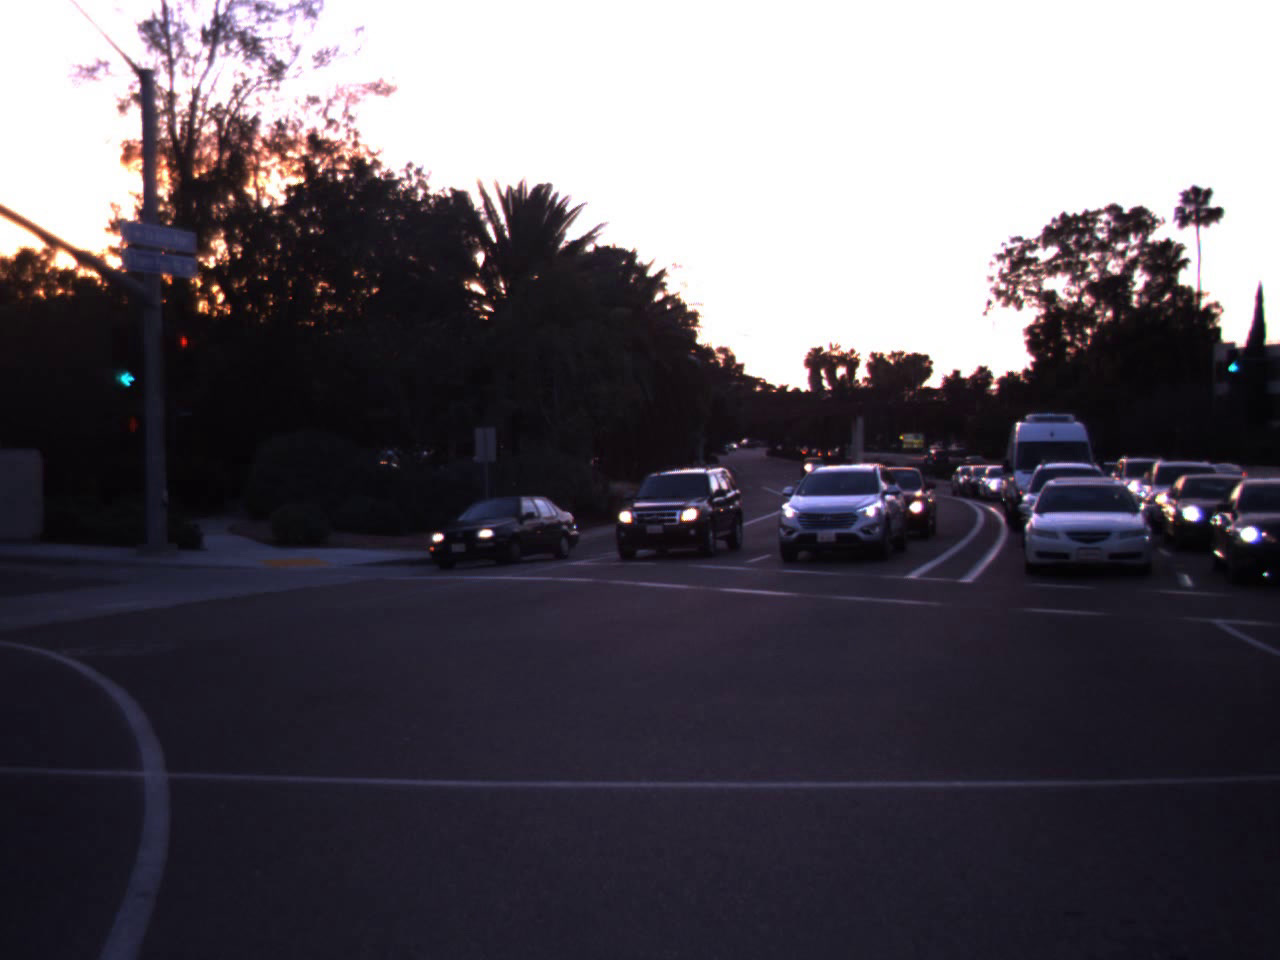go: (96, 306, 156, 396), (1222, 344, 1243, 374)
